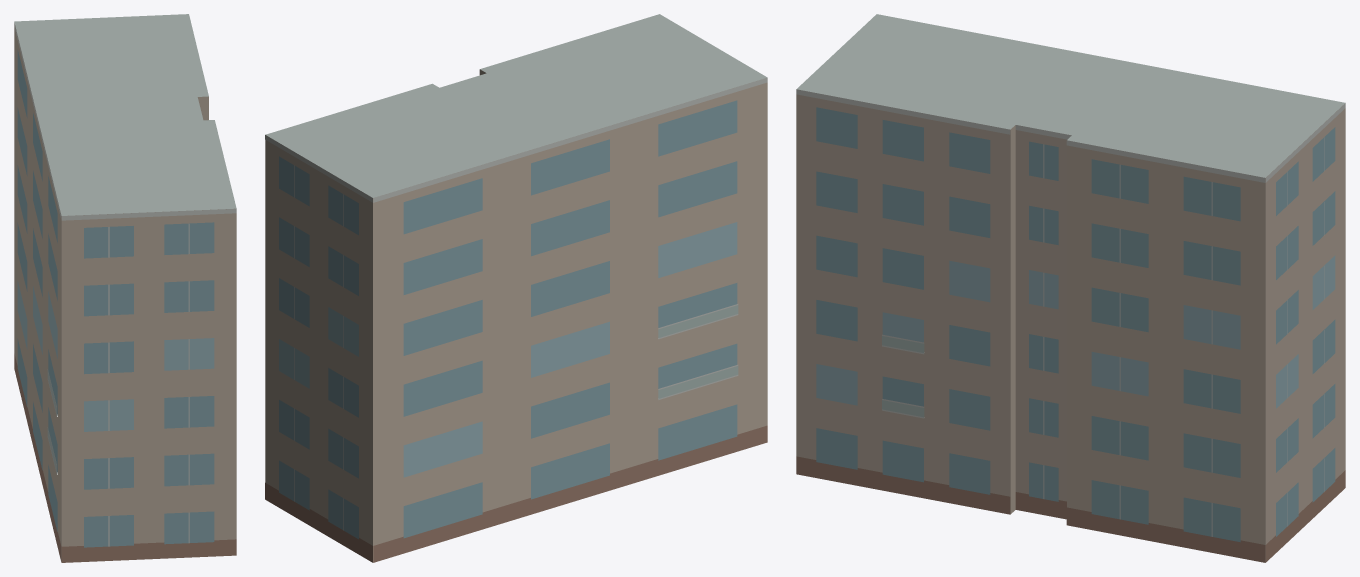
File: survey-upis-32551098.glb
3 renders of one model, left to right at view 1: azimuth 30°, elevation 25°; view 2: azimuth 150°, elevation 25°; view 3: azimuth 270°, elevation 25°, orthographic. The views are drawn at different scales.
Parts seen in each view (by area): view 1: survey-upis-32551098.tmp; view 2: survey-upis-32551098.tmp; view 3: survey-upis-32551098.tmp.
Part boxes in pixels (box(x1,y1,x2,y2)): survey-upis-32551098.tmp: box(14, 14, 236, 562); survey-upis-32551098.tmp: box(265, 14, 767, 562); survey-upis-32551098.tmp: box(796, 14, 1345, 562).
Bounding box in the file's own units: 16.72 × 18.3 × 23.67.
